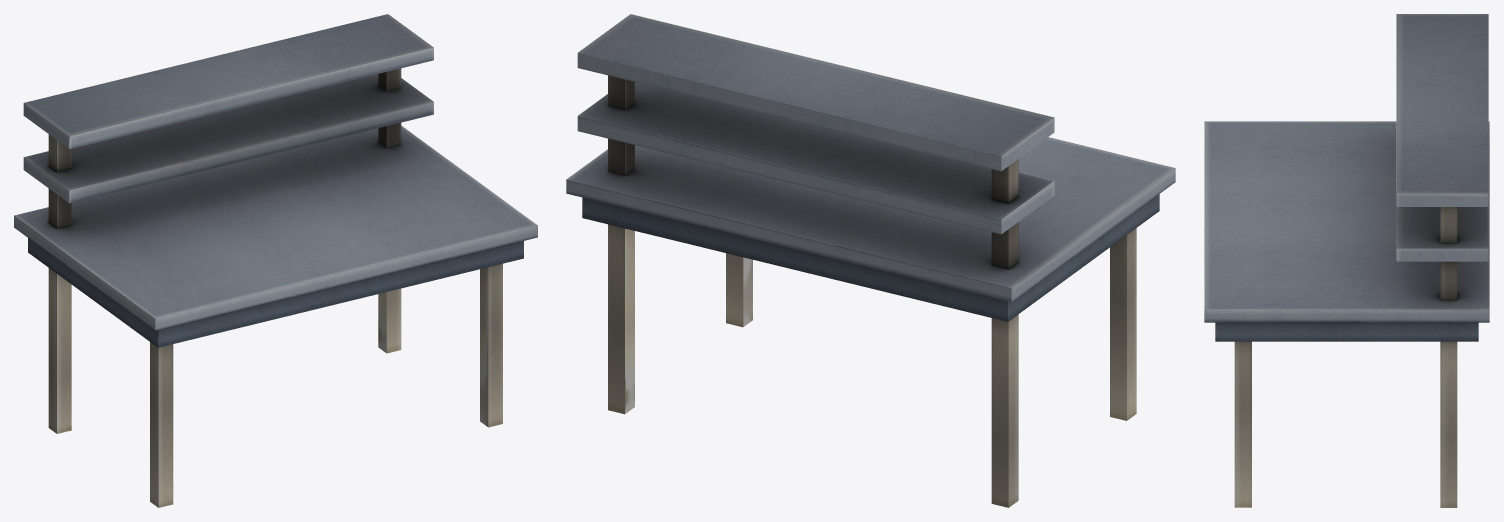
Rendered from labtafel.obj.
3 views of the same model, side by side, from view 1: azimuth 30°, elevation 25°; view 2: azimuth 150°, elevation 25°; view 3: azimuth 270°, elevation 25° (orthographic). The views are drawn at different scales.
Visible parts, largest first — view 1: cube1_cube1_auv; view 2: cube1_cube1_auv; view 3: cube1_cube1_auv.
Boxes of the visible parts, x1,y1,x2,y2 form: cube1_cube1_auv: [14, 14, 537, 507]; cube1_cube1_auv: [566, 14, 1175, 507]; cube1_cube1_auv: [1204, 14, 1489, 507].
Bounding box in the file's own units: 3.98 × 3.14 × 2.54.
Materials: 1 (1 with a texture image).
